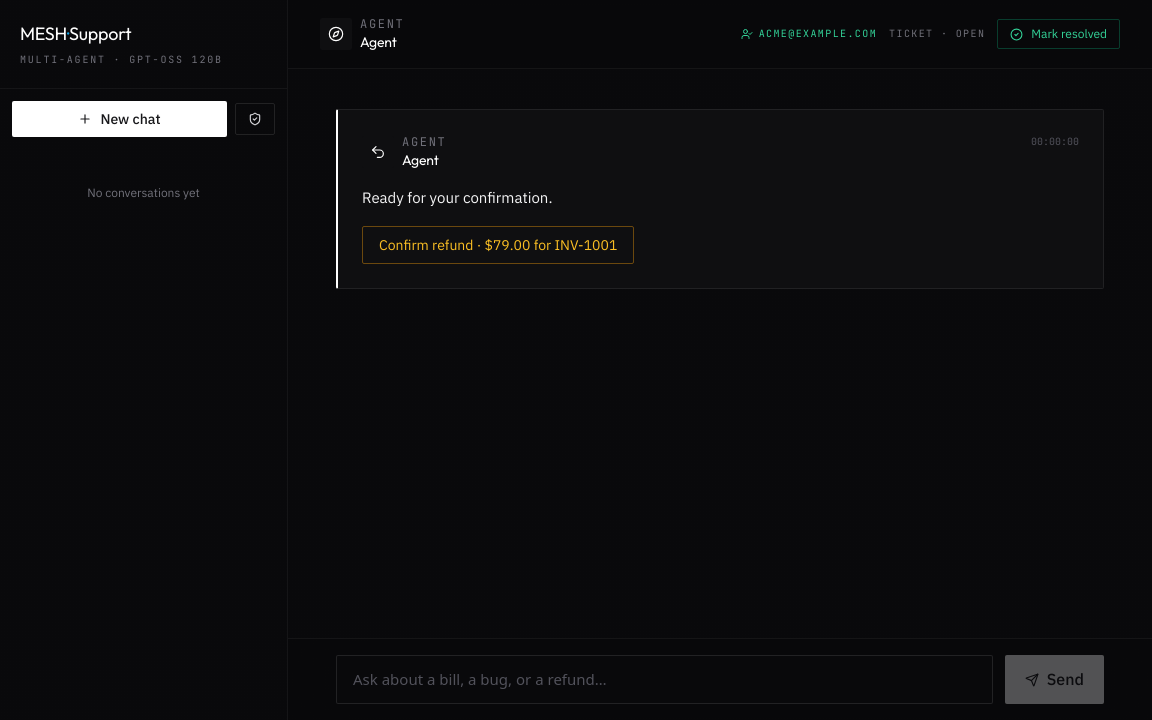
Scenario: refund executes only from the customer's confirm click
What coordinates should you click on to do the following:
click the button "Confirm refund · $79.00 for INV-1001"
I would click on:
 (498, 245)
Its box is 362,226 -> 634,264.
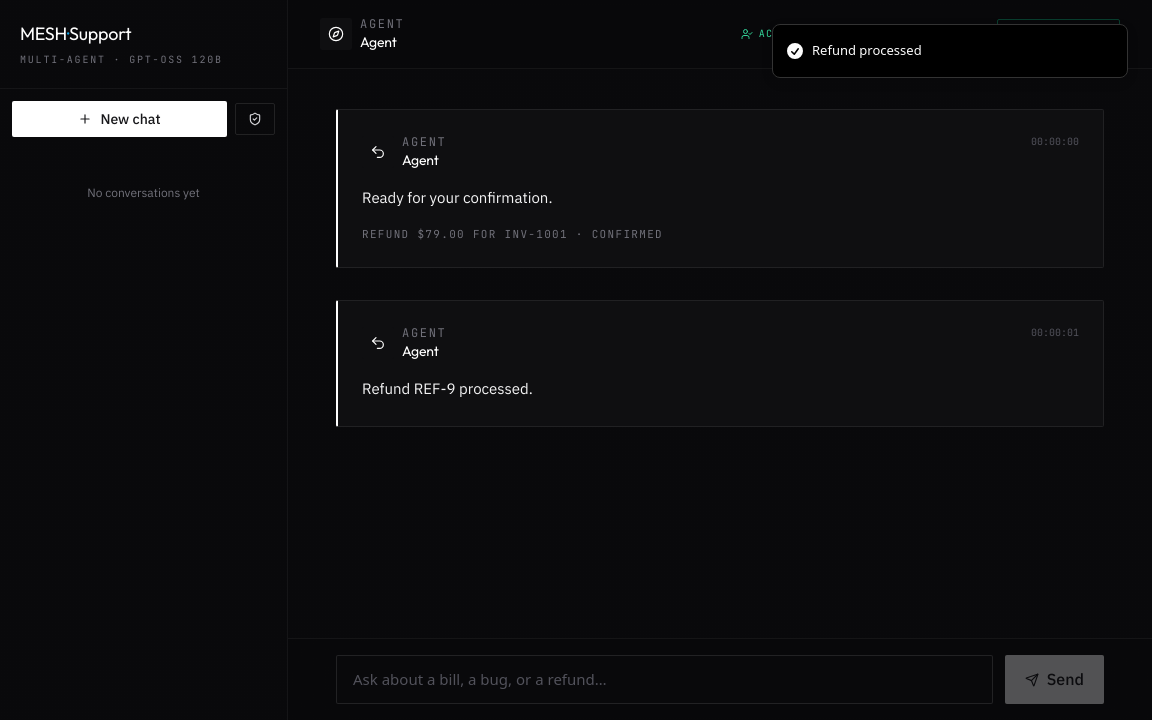
Now the text "Refund REF-9 processed." is shown, box 362,379 -> 533,398
Now the text "confirmed" is shown, box 592,227 -> 663,241
